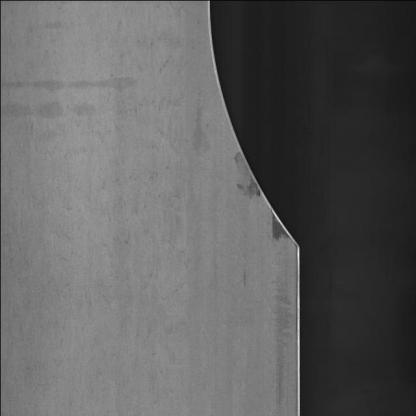crescent_gap: (185, 0, 304, 256)
